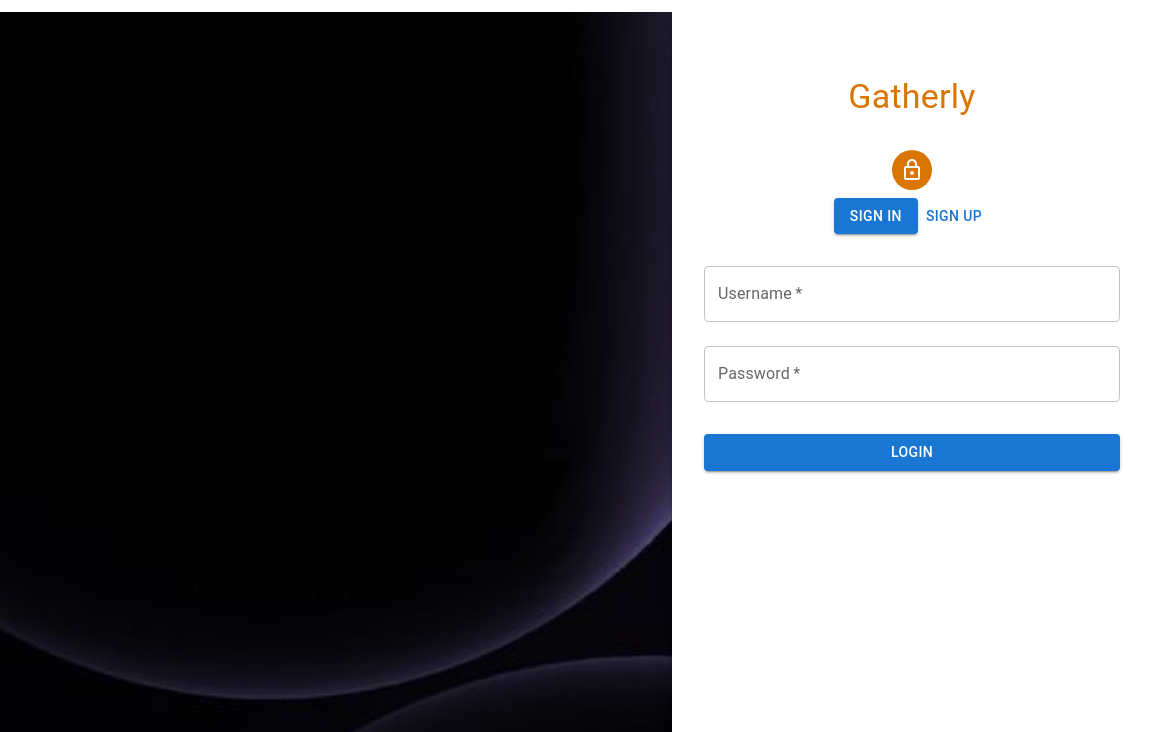
Scenario: successful login loads the authenticated home
The width and height of the screenshot is (1152, 732).
Type "testuser" into the field labelled "Username *". click: (912, 294)
box: [704,266,1120,322]
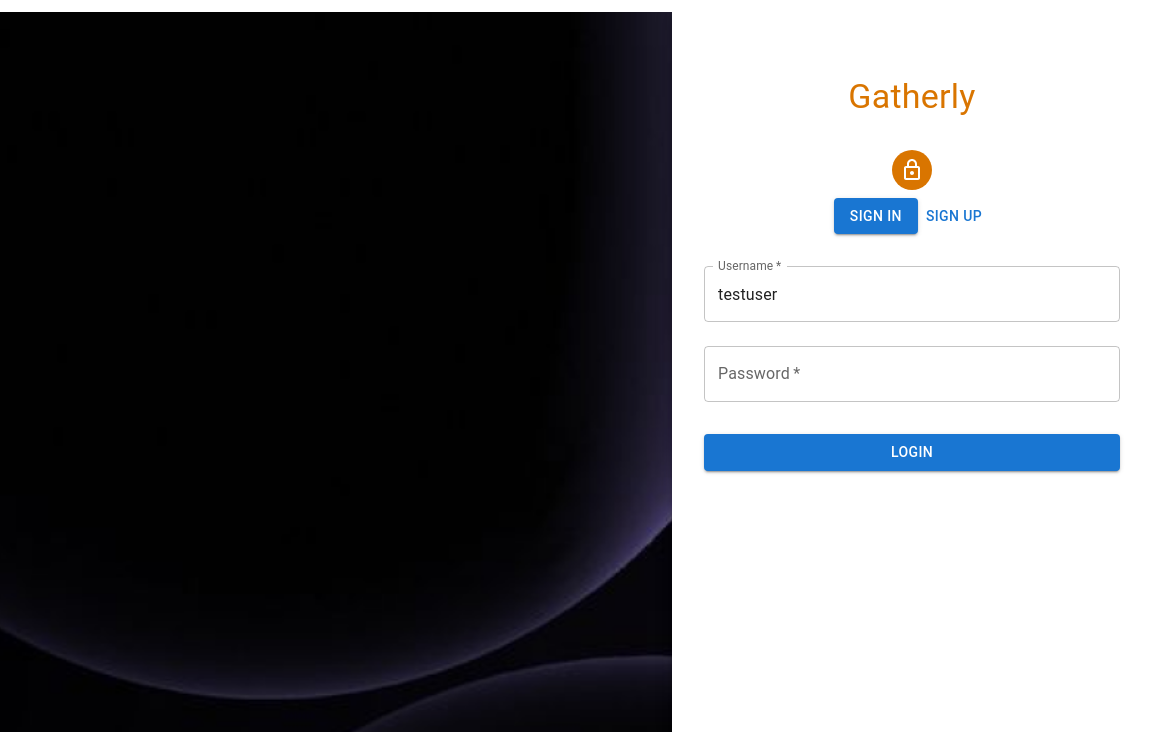
Type "testing123" into the password field labelled "Password *". click: (912, 374)
box: [704,346,1120,402]
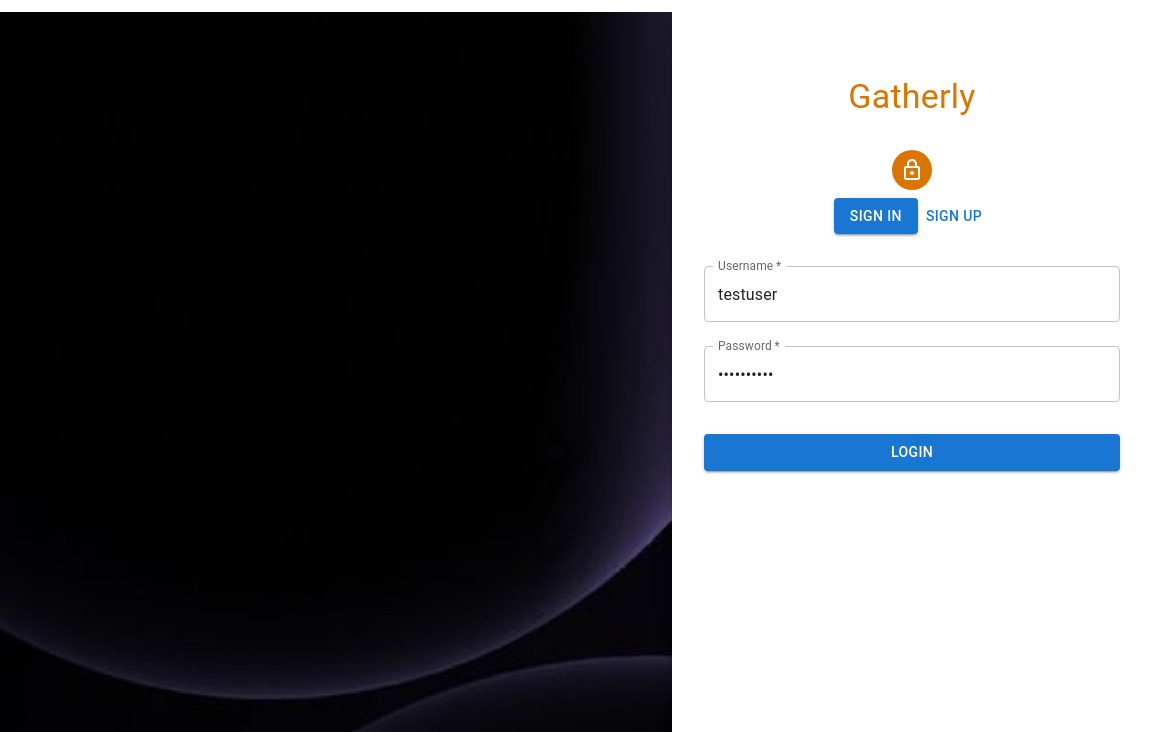
Click the button "Login". click: click(912, 453)
box: [704,434,1120,471]
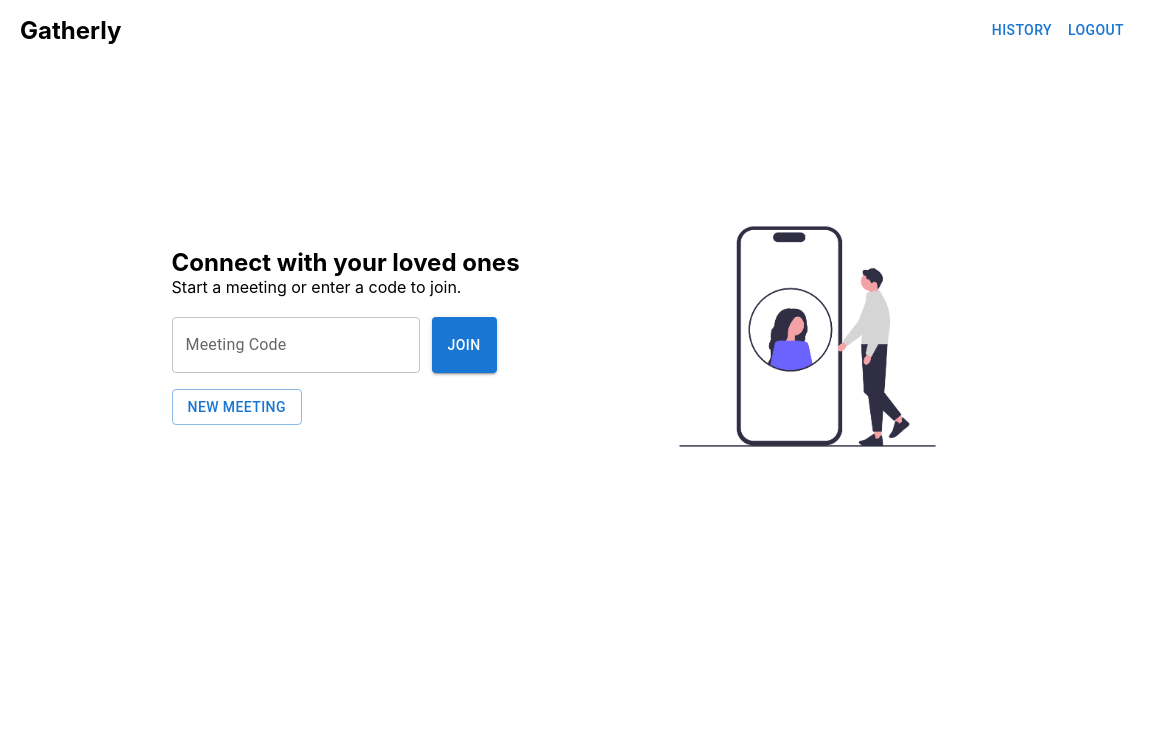
Now the button "New meeting" is shown, box [172,389,302,425]
